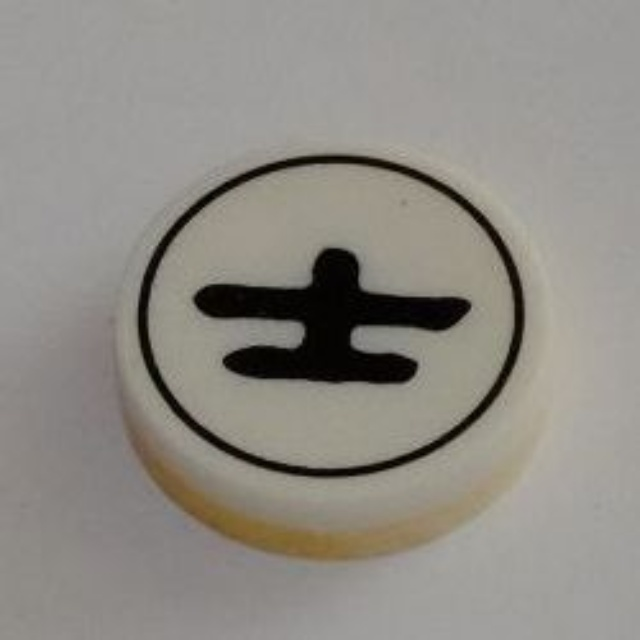black_si: (104, 129, 551, 559)
